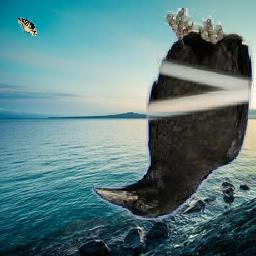Crow: (90, 8, 254, 220)
Woodpecker: (19, 18, 38, 37)
